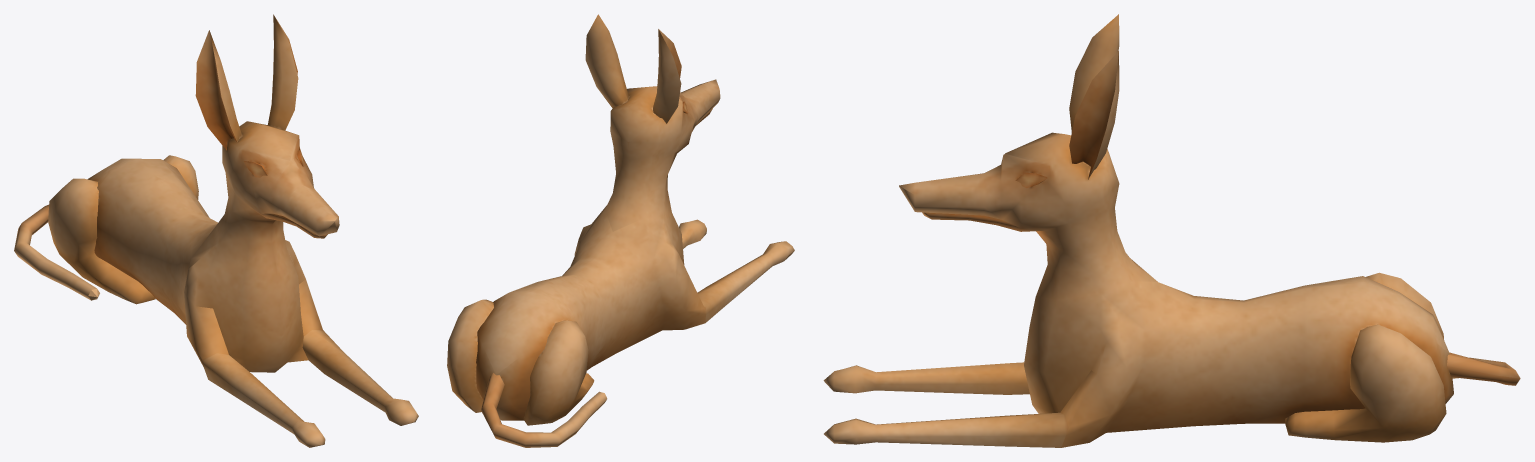
Rendered from Statue_Anubis_01.FBX.
3 renders of one model, left to right at view 1: azimuth 30°, elevation 25°; view 2: azimuth 150°, elevation 25°; view 3: azimuth 270°, elevation 25°, orthographic. The views are drawn at different scales.
Parts seen in each view (by area): view 1: Statue_Anubis_01; view 2: Statue_Anubis_01; view 3: Statue_Anubis_01.
Part boxes in pixels (bbox=[...]): Statue_Anubis_01: bbox=[14, 14, 418, 447]; Statue_Anubis_01: bbox=[447, 14, 794, 447]; Statue_Anubis_01: bbox=[823, 14, 1520, 447].
Bounding box in the file's own units: 15.47 × 33.46 × 54.74.
